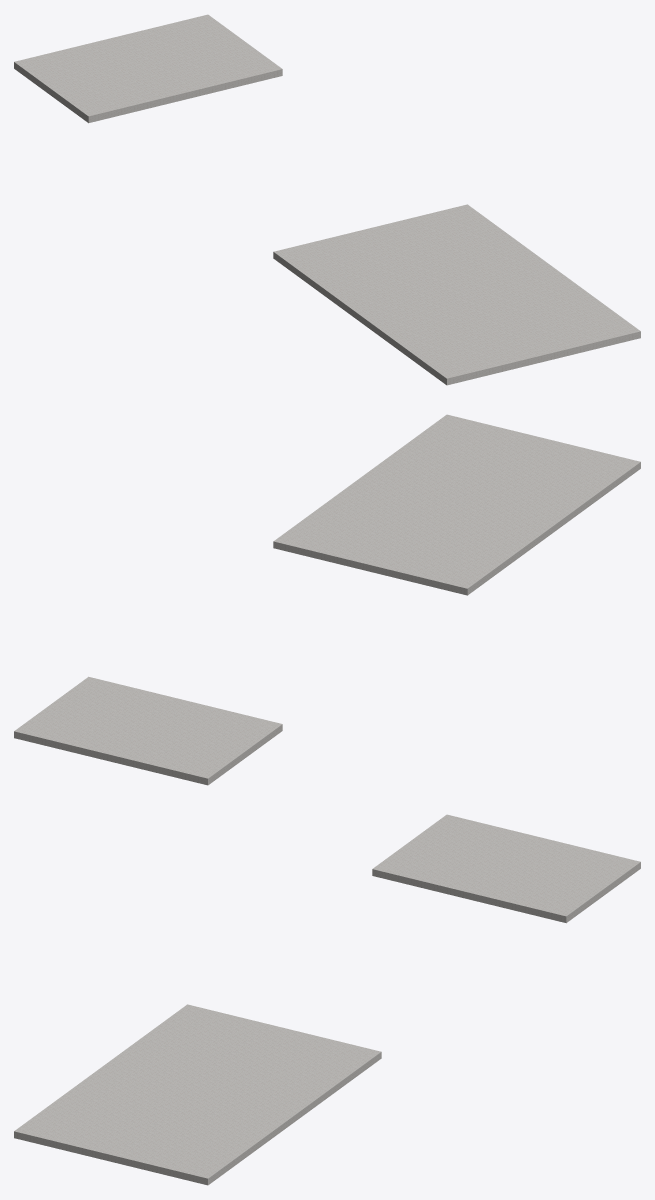
3 views of the same model, one above another, from view 1: azimuth 30°, elevation 25°; view 2: azimuth 150°, elevation 25°; view 3: azimuth 330°, elevation 25° (orthographic).
Bounding box in the file's own units: 5.97 × 0.2 × 23.04.
1 material, 1 textured.
